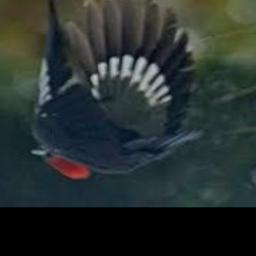Woodpecker: (31, 0, 204, 180)
